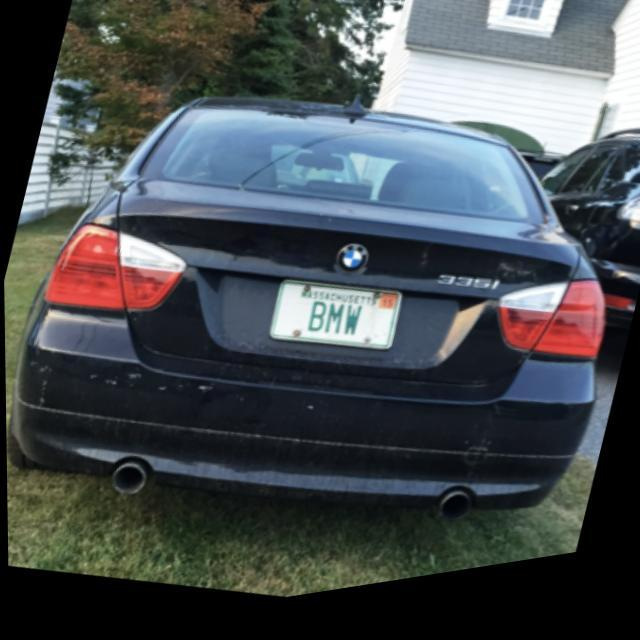license_plate: (266, 271, 404, 376)
